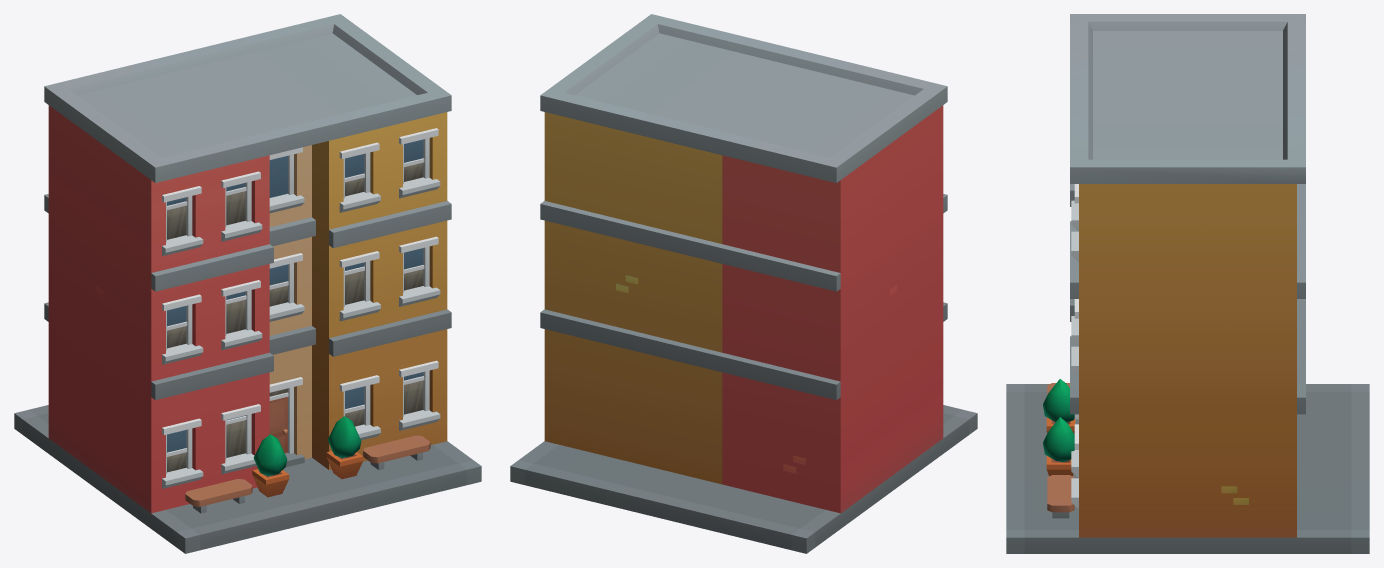
File: kkcity.building_f.glb
3 views of the same model, side by side, from view 1: azimuth 30°, elevation 25°; view 2: azimuth 150°, elevation 25°; view 3: azimuth 270°, elevation 25° (orthographic). The views are drawn at different scales.
Visible parts, largest first — view 1: building_F; view 2: building_F; view 3: building_F.
Part boxes in pixels (bbox=[...]): building_F: bbox=[14, 14, 481, 553]; building_F: bbox=[510, 14, 977, 553]; building_F: bbox=[1006, 14, 1369, 553].
Size of the model in its own units: 9.63 by 11.27 by 9.59.
1 material, 1 textured.
